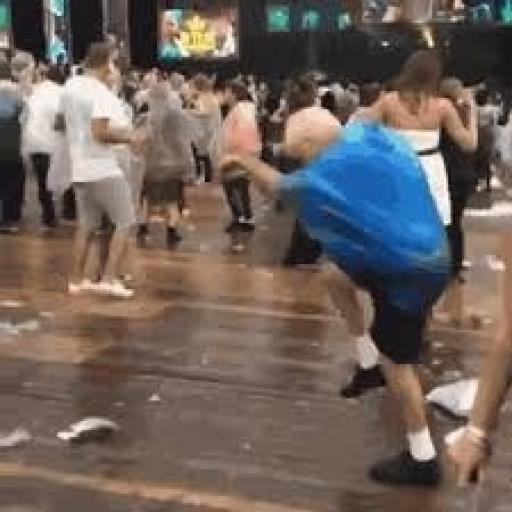running: (214, 109, 460, 489), (48, 36, 157, 302)
